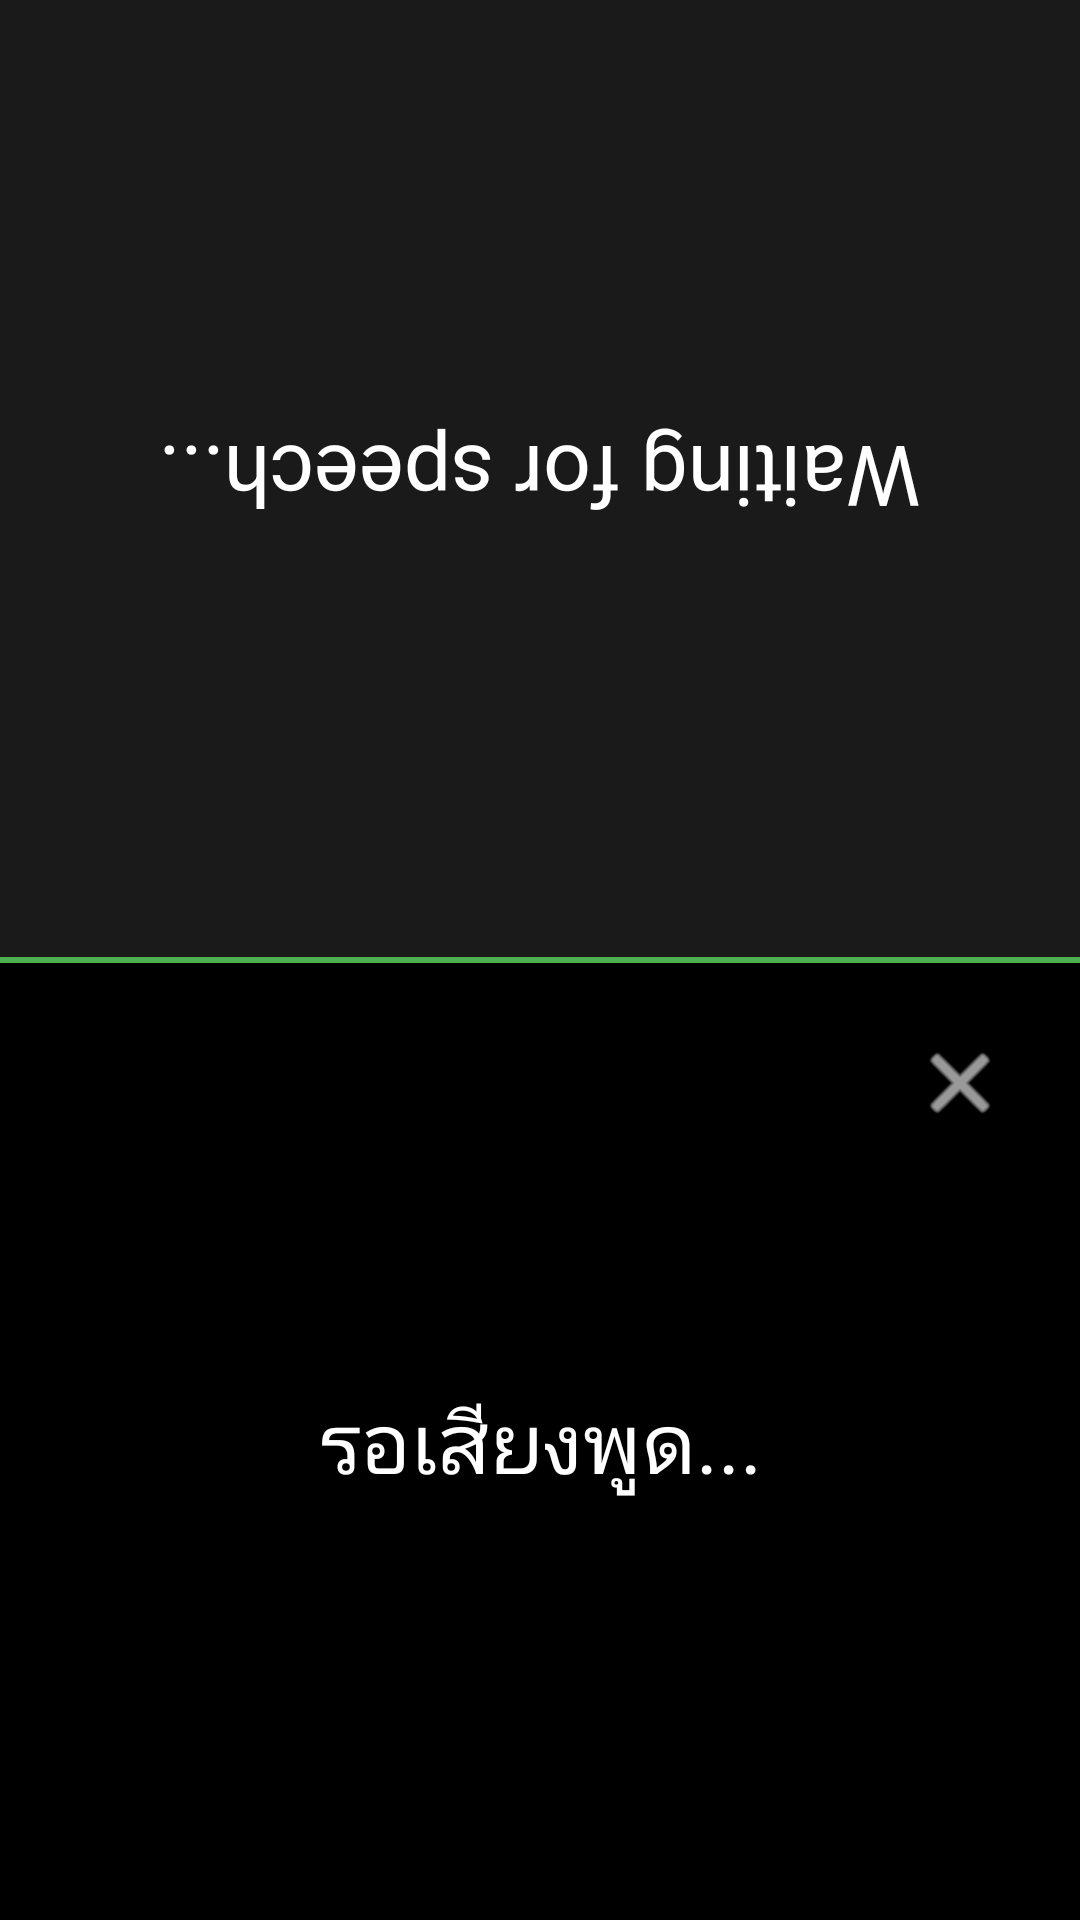

Icon click points for this 1080x1920 phone screenshot, format (x=x, y=y):
close clear cancel: (x=960, y=1083)
